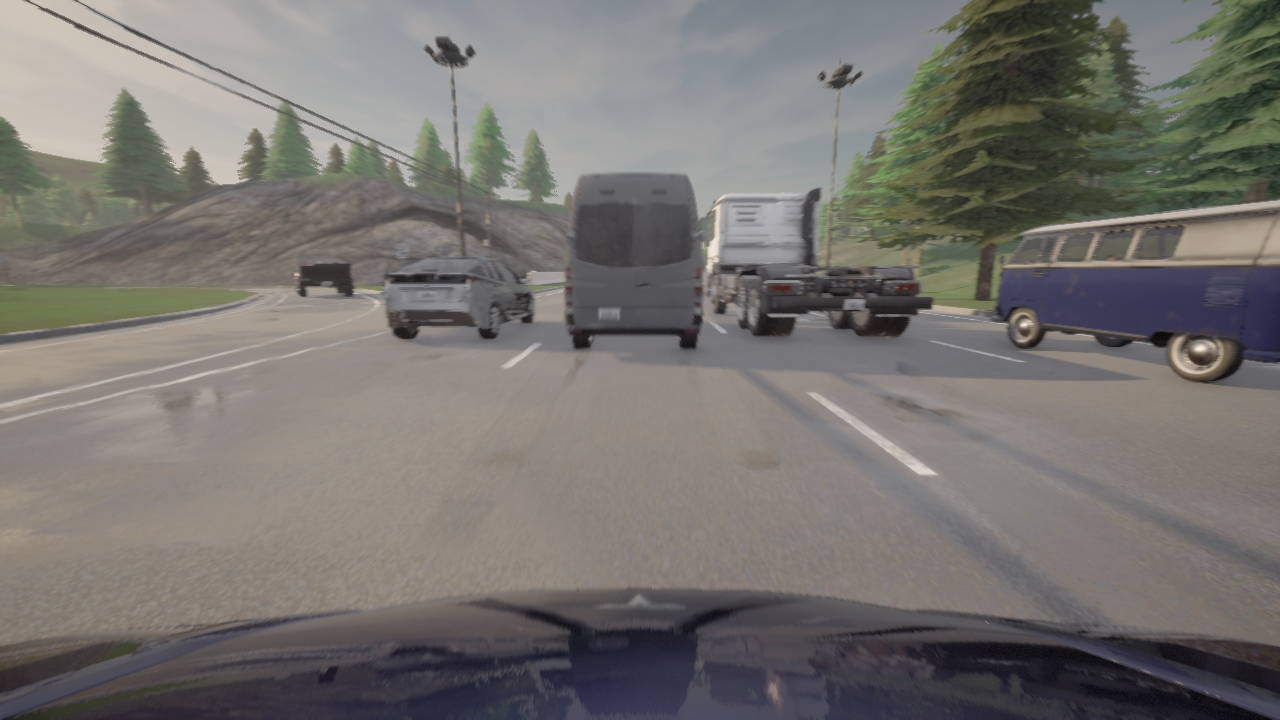cyclist: (0, 588, 1279, 719), (992, 199, 1279, 381), (700, 187, 932, 336), (565, 173, 703, 348), (384, 257, 535, 339), (293, 256, 353, 297)
